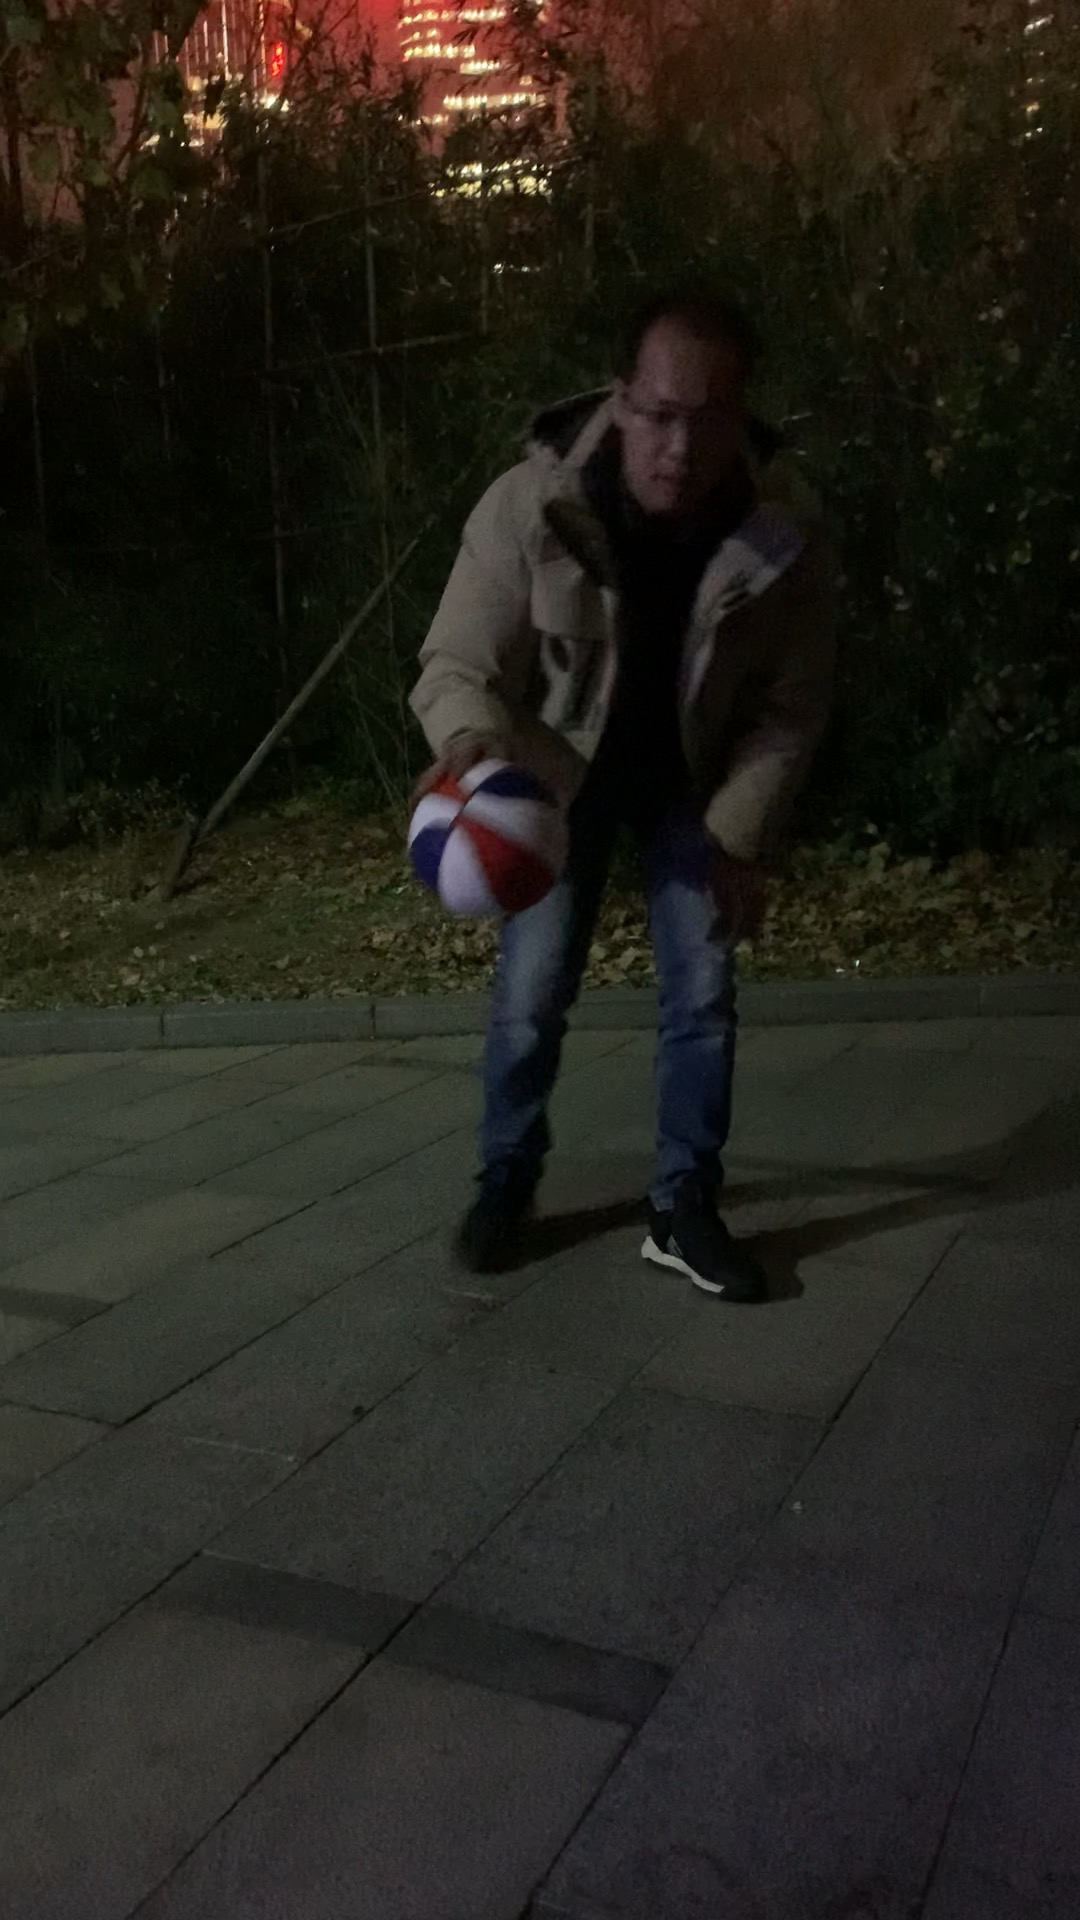ball: (407, 757, 568, 924)
